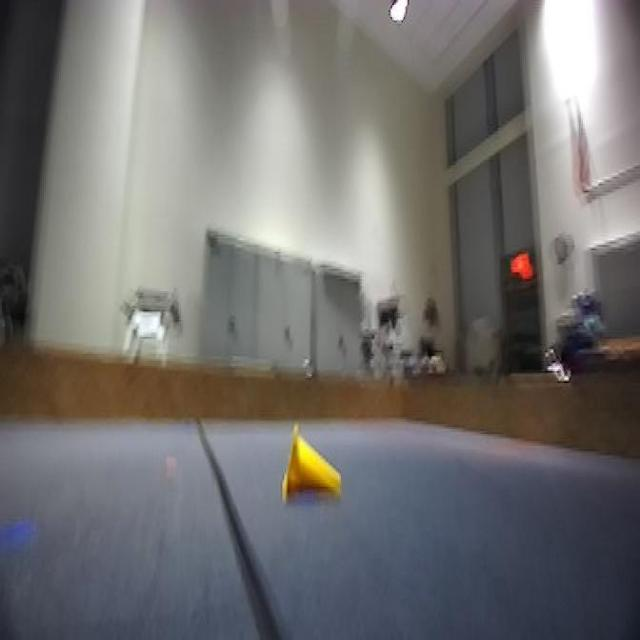frc_cone: (278, 417, 343, 504)
